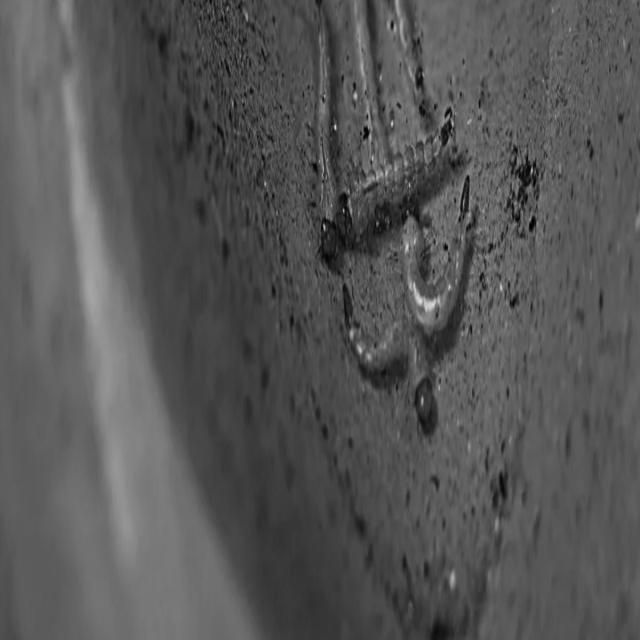larvas: (331, 294, 446, 461), (337, 112, 465, 244), (400, 183, 475, 332), (307, 0, 345, 251), (345, 0, 389, 180), (389, 0, 438, 123)
